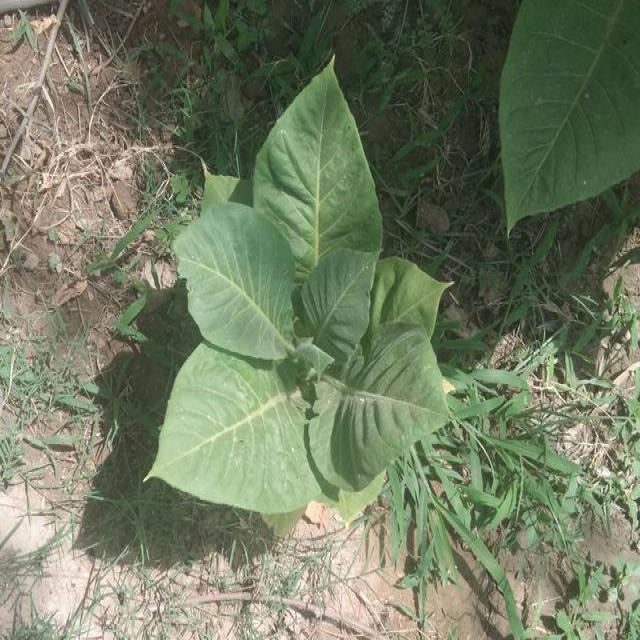crop: (143, 47, 463, 532)
